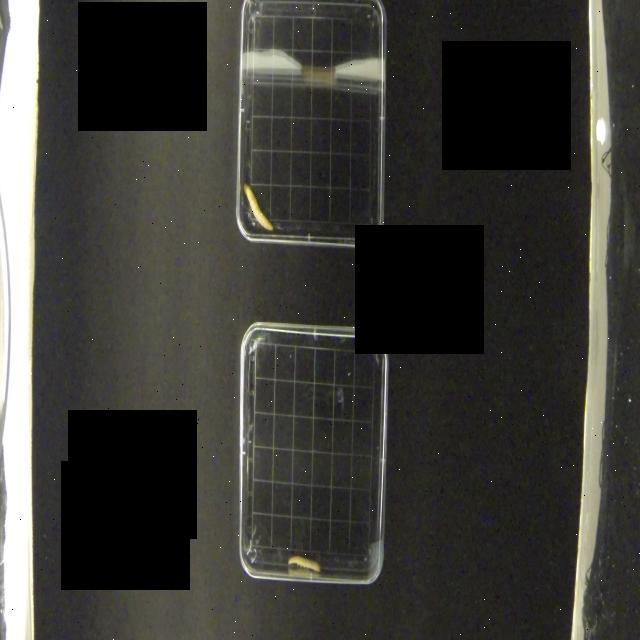larva: (245, 182, 273, 234), (288, 549, 322, 574)
